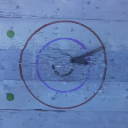Axe Tip: (74, 59, 82, 61)
